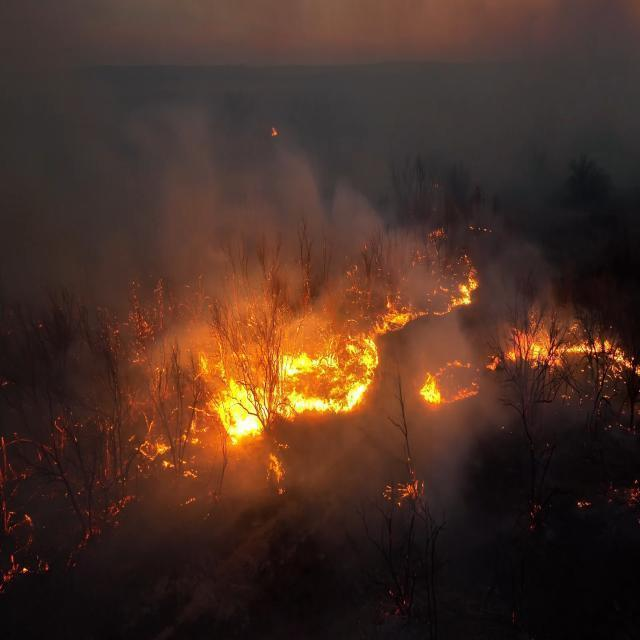Fire: (266, 328, 372, 435), (215, 365, 275, 450)
Smoke: (131, 72, 318, 283)
